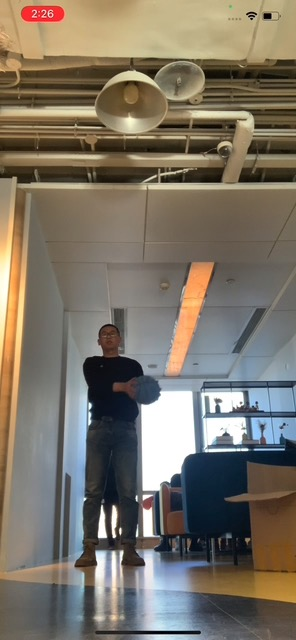ball: (129, 375, 159, 405)
